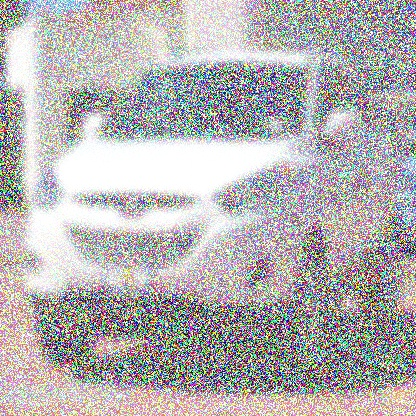Vehicle: (25, 47, 403, 370)
